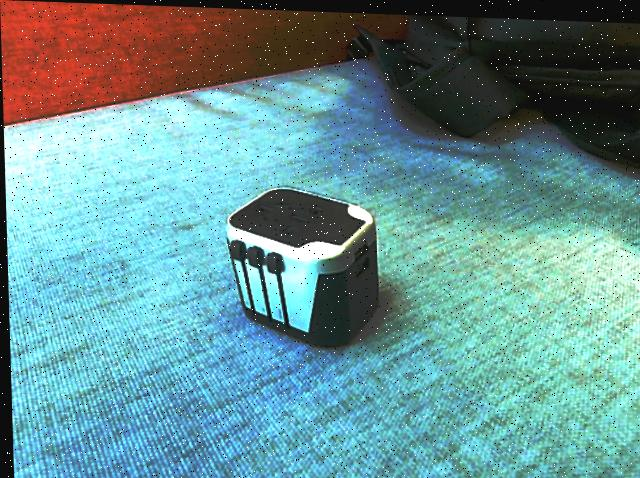adapter: (221, 182, 379, 347)
